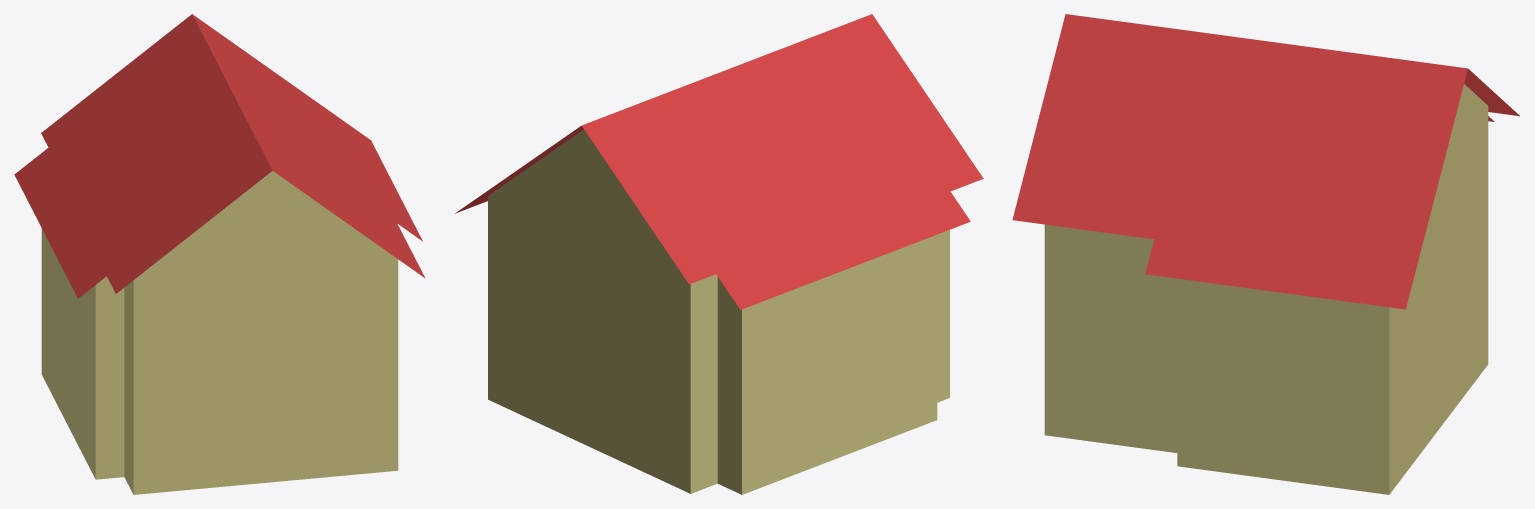
3 renders of one model, left to right at view 1: azimuth 30°, elevation 25°; view 2: azimuth 150°, elevation 25°; view 3: azimuth 270°, elevation 25°, orthographic. The views are drawn at different scales.
Bounding box in the file's own units: 14.93 × 14.89 × 11.57.
